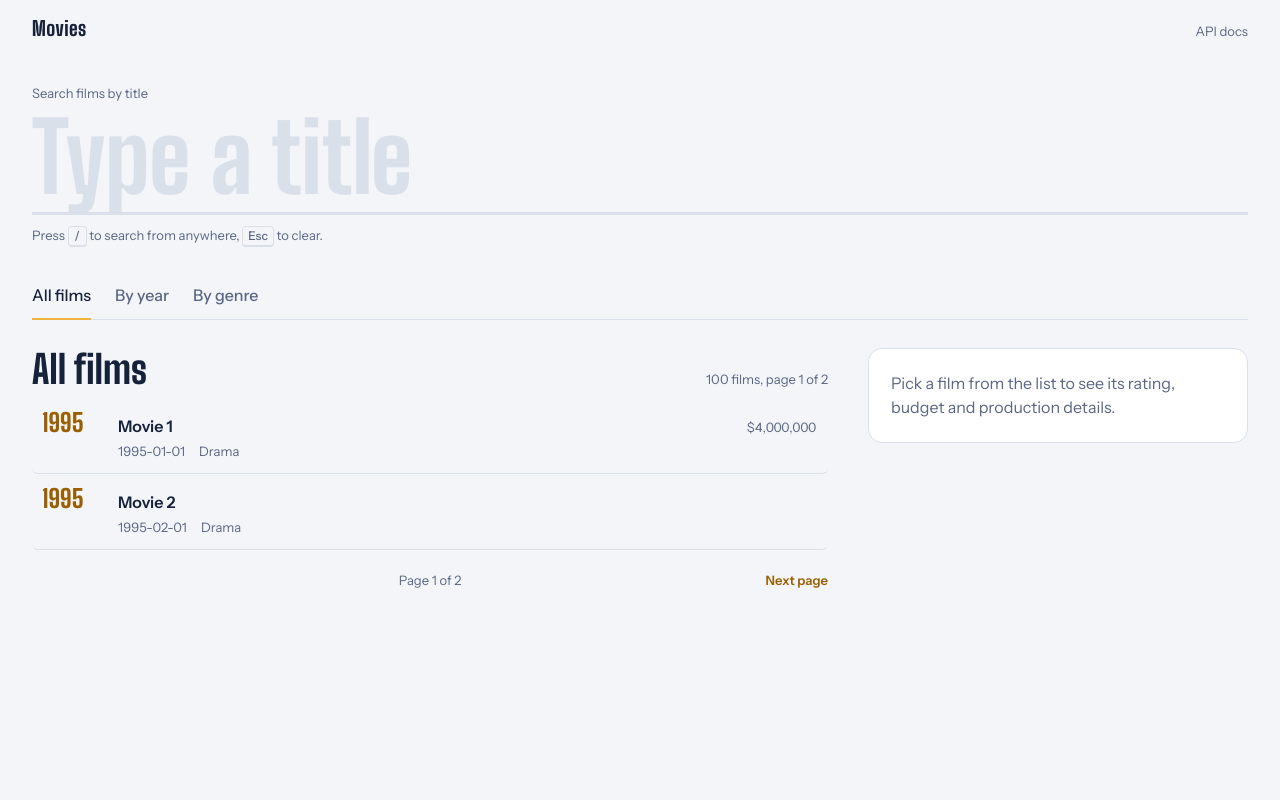
Test: browse › paginates with the page query param
Click the link "Next page" at (797, 580), box [766,570,828,590]
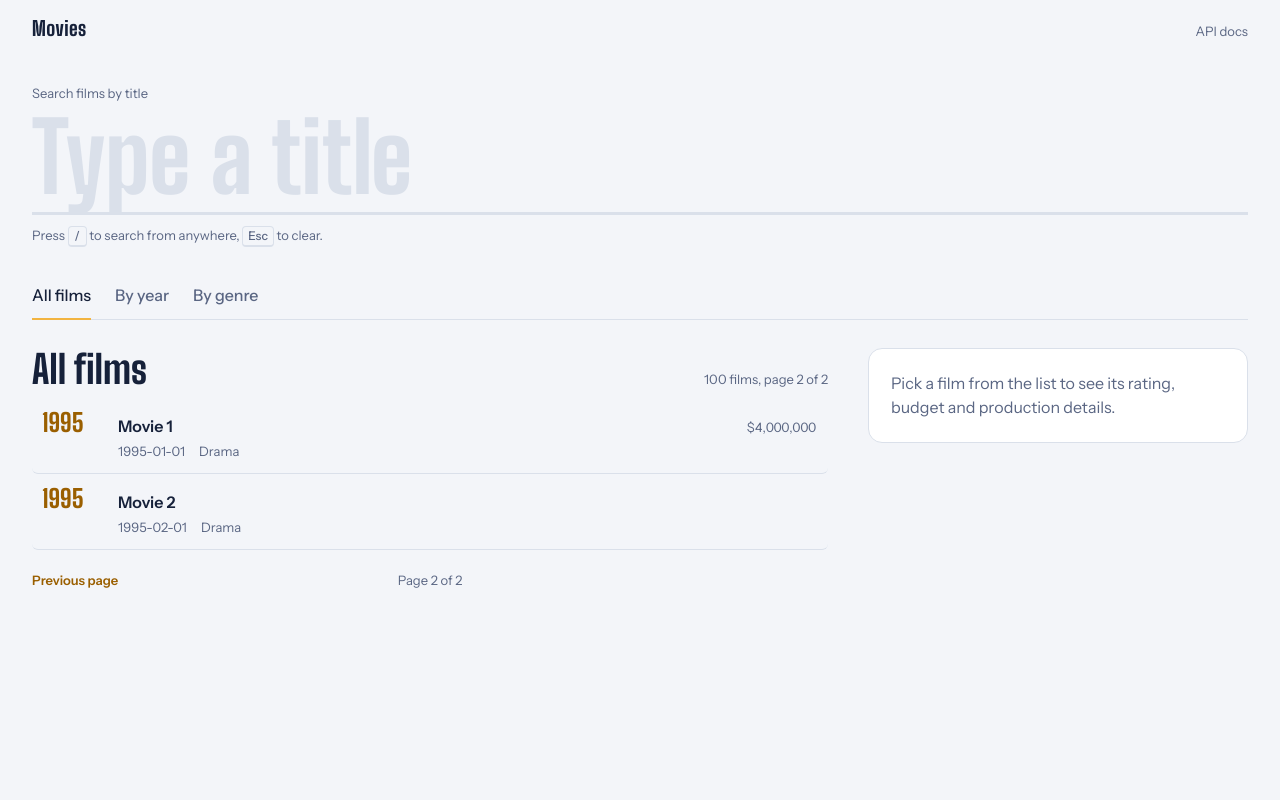
Expected: the text "Page 2 of 2" is shown, [398,570,462,590]
